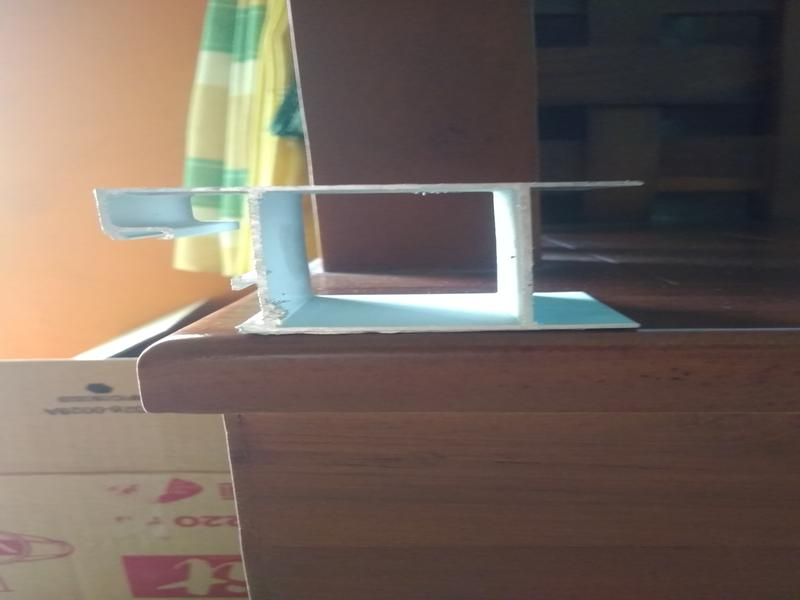Aluminium_2: (70, 160, 677, 331)
